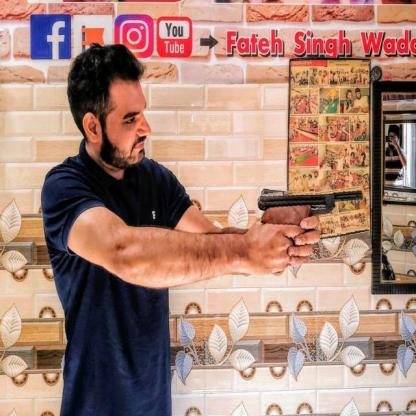handgun: (255, 184, 370, 266)
